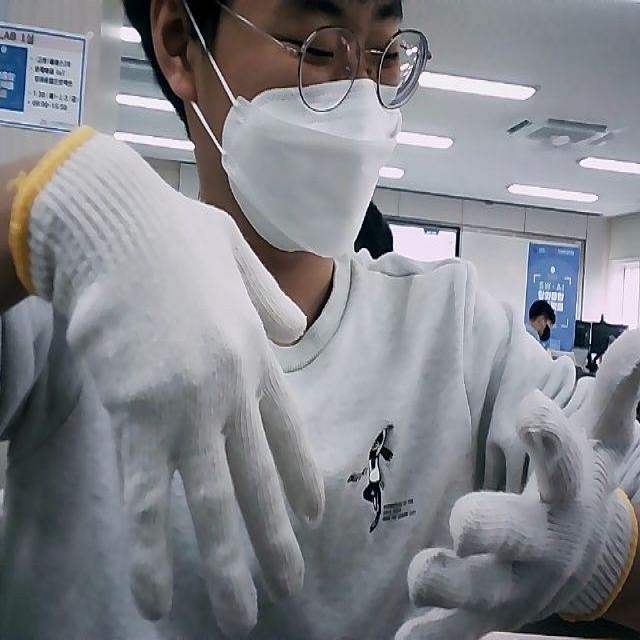Guantes: (16, 126, 327, 634), (396, 323, 640, 640)
